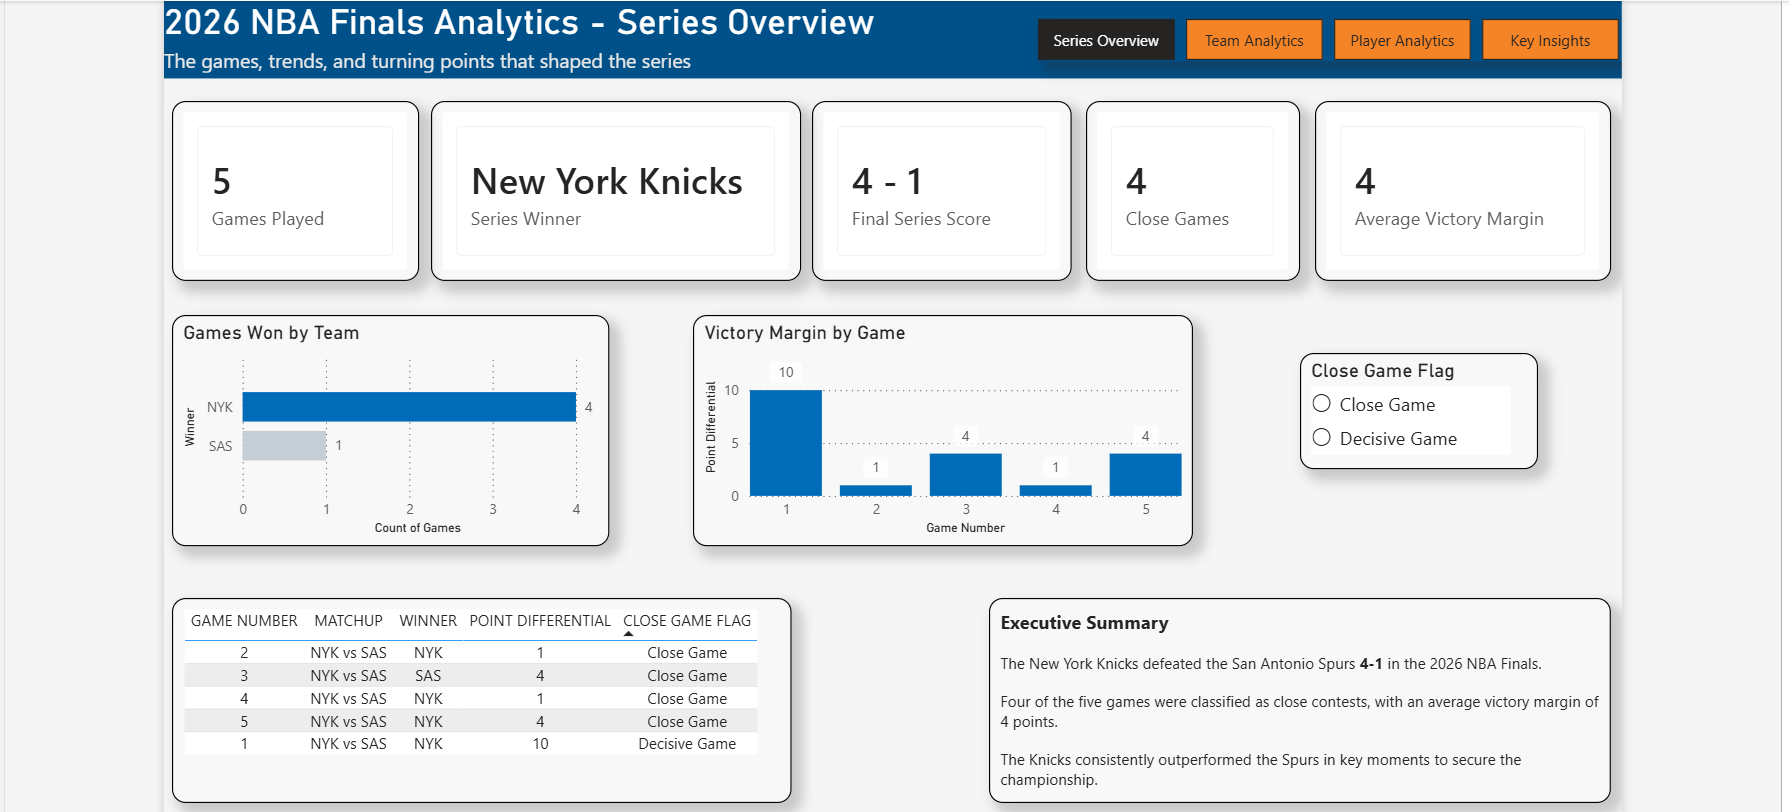

This screenshot's page, from the dashboard's own definition file:
{"tool":"powerbi","page":{"name":"Series Overview","canvas":[1280,720],"ordinal":0},"visuals":[{"type":"cardVisual","fields":{"Data":["Measures (2).Total Games"]},"box":[7,87.8,216.9,158],"z":0},{"type":"cardVisual","fields":{"Data":["Measure Table.Series Winner Full Name"]},"box":[234.4,87.8,324.9,158],"z":1000},{"type":"cardVisual","fields":{"Data":["Measures (2).Series Score"]},"box":[569,87.8,228.3,158],"z":2000},{"type":"cardVisual","fields":{"Data":["Measures (2).Close Games"]},"box":[809.6,87.8,187.9,158],"z":3000},{"type":"clusteredBarChart","title":"Games Won by Team","fields":{"Category":["game_analytics.WINNER"],"Y":["CountNonNull(game_analytics.GAME_ID)"]},"box":[7,275.7,383.7,202.8],"z":4000},{"type":"tableEx","title":"Game-by-Game Summary","fields":{"Values":["game_analytics.GAME_NUMBER","game_analytics.MATCHUP","game_analytics.WINNER","game_analytics.POINT_DIFFERENTIAL","game_analytics.CLOSE_GAME_FLAG"]},"box":[7,524.2,543.5,180],"z":5000},{"type":"listSlicer","fields":{"Values":["game_analytics.CLOSE_GAME_FLAG"]},"box":[997.5,309.1,209,101.9],"z":6000},{"type":"cardVisual","fields":{"Data":["Measures (2).Average Point Differential"]},"box":[1010.6,87.8,259.9,158],"z":7000},{"type":"lineStackedColumnComboChart","title":"Victory Margin by Game","fields":{"Category":["game_analytics.GAME_NUMBER"],"Y":["Sum(game_analytics.POINT_DIFFERENTIAL)"]},"box":[464.5,275.7,439,202.8],"z":8000},{"type":"textbox","box":[724.4,524.2,546.1,180],"z":9000},{"type":"shape","title":" 2026 NBA Finals Analytics - Series Overview","box":[0,0,1280.2,67.6],"z":10000},{"type":"pageNavigator","box":[767.4,15.8,512.8,36.9],"z":11000}]}

Visuals, with their boxes in screenshot pixels (x1, y1, x2, y2):
cardVisual - Measures (2).Total Games: bbox=[162, 92, 411, 274]
cardVisual - Measure Table.Series Winner Full Name: bbox=[424, 92, 798, 274]
cardVisual - Measures (2).Series Score: bbox=[809, 92, 1072, 274]
cardVisual - Measures (2).Close Games: bbox=[1086, 92, 1302, 274]
"Games Won by Team" clusteredBarChart: bbox=[162, 308, 603, 541]
"Game-by-Game Summary" tableEx: bbox=[162, 594, 787, 801]
listSlicer - game_analytics.CLOSE_GAME_FLAG: bbox=[1302, 346, 1543, 464]
cardVisual - Measures (2).Average Point Differential: bbox=[1317, 92, 1616, 274]
"Victory Margin by Game" lineStackedColumnComboChart: bbox=[688, 308, 1194, 541]
textbox: bbox=[988, 594, 1616, 801]
" 2026 NBA Finals Analytics - Series Overview" shape: bbox=[154, 0, 1627, 68]
pageNavigator: bbox=[1037, 9, 1627, 51]
